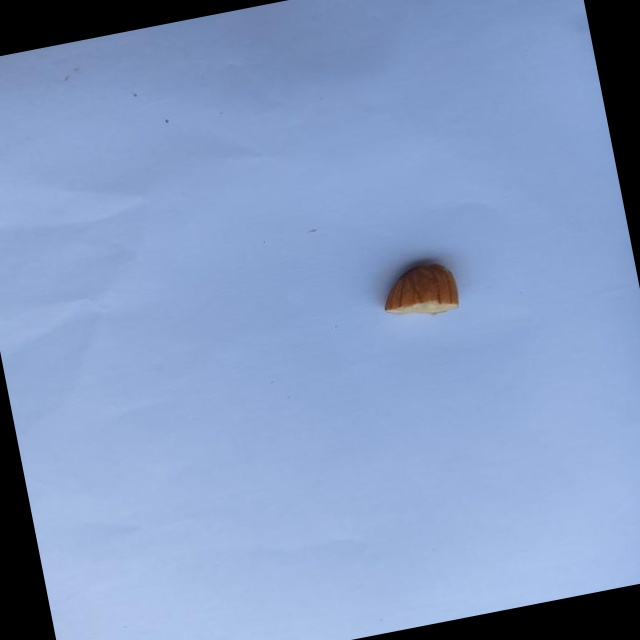grade4: (368, 251, 469, 329)
